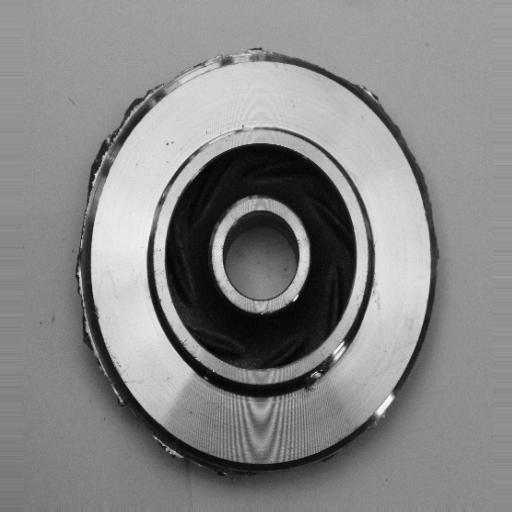casting_with_burr: (73, 45, 442, 480)
scratch: (192, 114, 267, 151), (325, 333, 357, 379), (303, 359, 333, 396)
